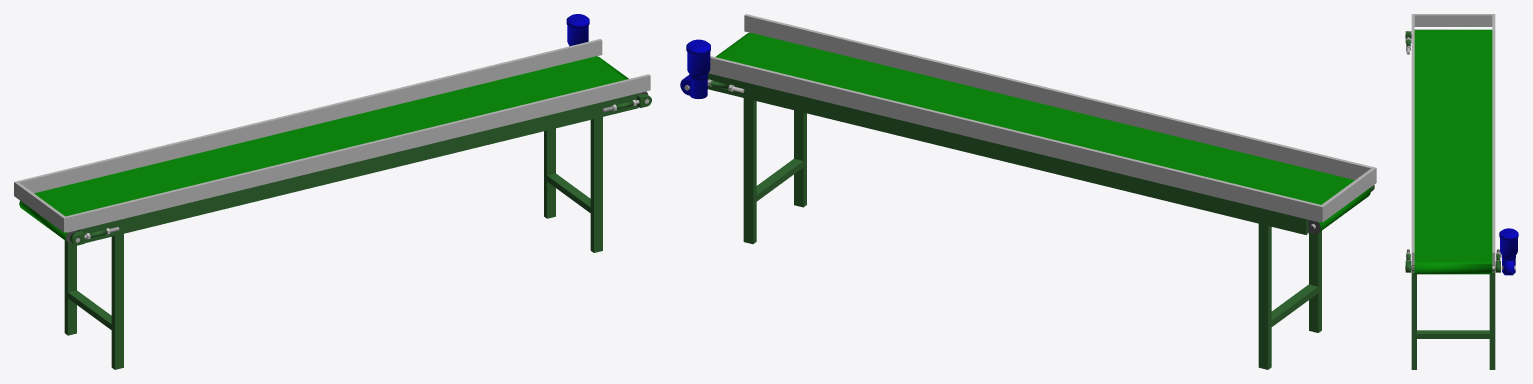
The model's file is conveyor1.dae.
3 views of the same model, side by side, from view 1: azimuth 30°, elevation 25°; view 2: azimuth 150°, elevation 25°; view 3: azimuth 270°, elevation 25° (orthographic). The views are drawn at different scales.
Parts seen in each view (by area): view 1: mesh3_001; view 2: mesh3_001; view 3: mesh3_001.
Part boxes in pixels (x1,y1,x2,y2): mesh3_001: (14,14,651,369); mesh3_001: (680,14,1376,369); mesh3_001: (1405,14,1518,369).
Bounding box in the file's own units: 10.48 × 2.1 × 3.11.
